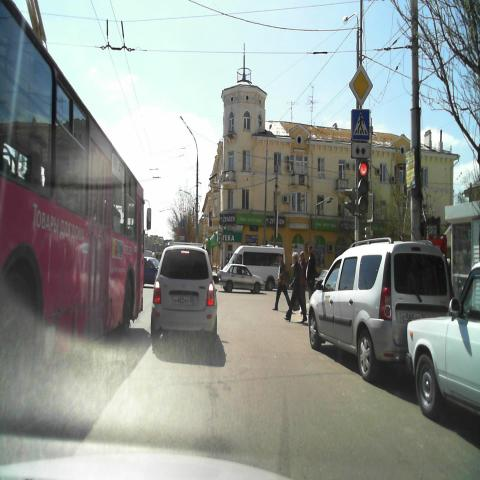8_15: (352, 142, 370, 158)
